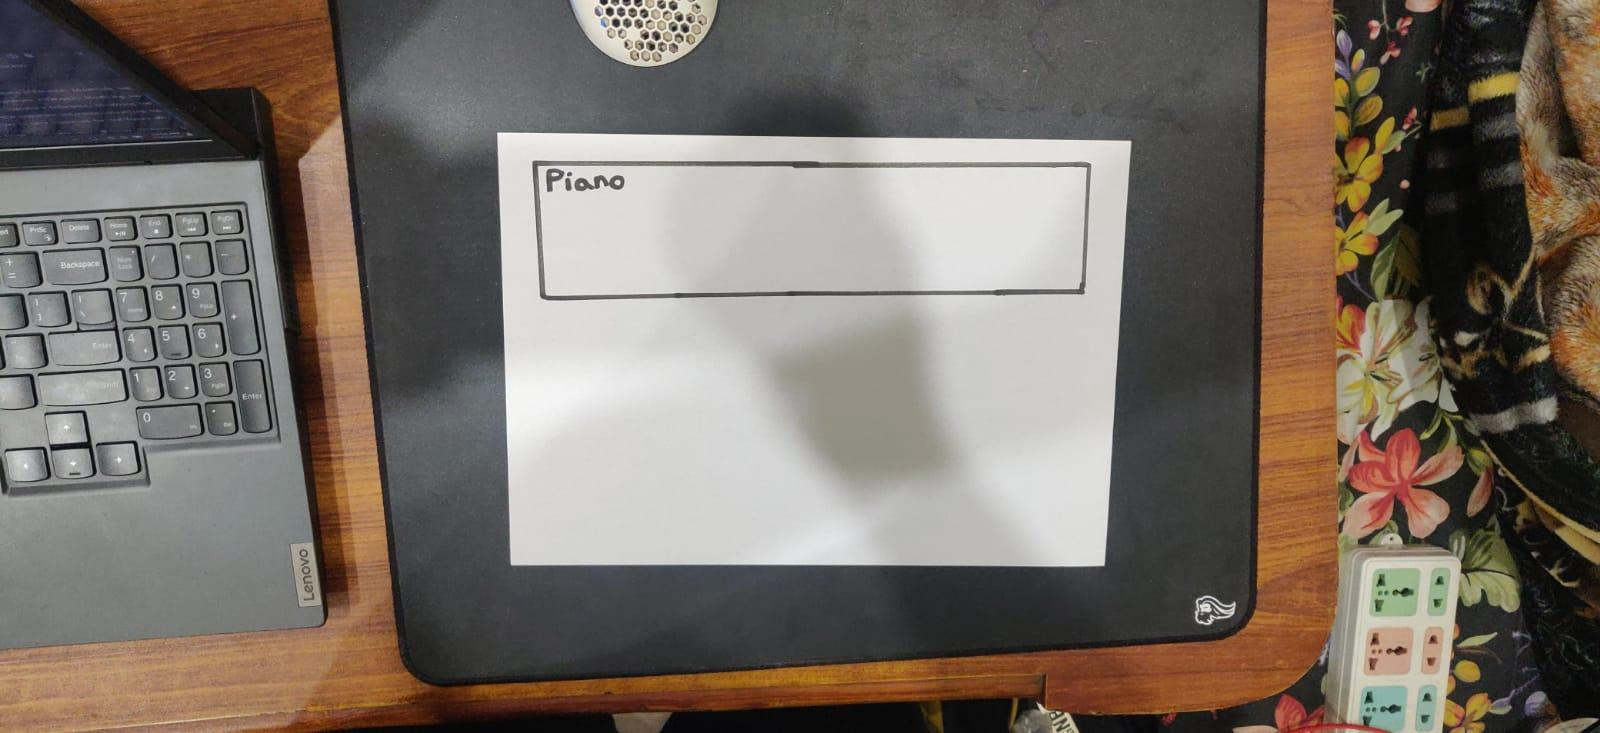paper-piano: (536, 162, 1086, 293)
